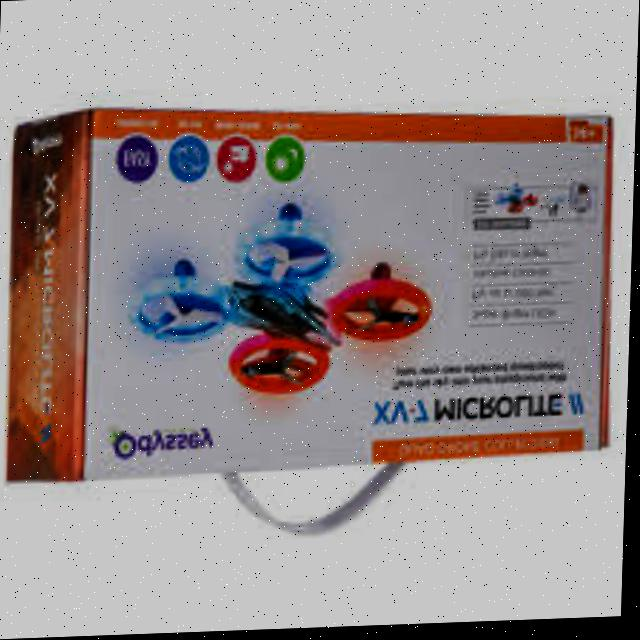drone: (111, 185, 450, 406)
